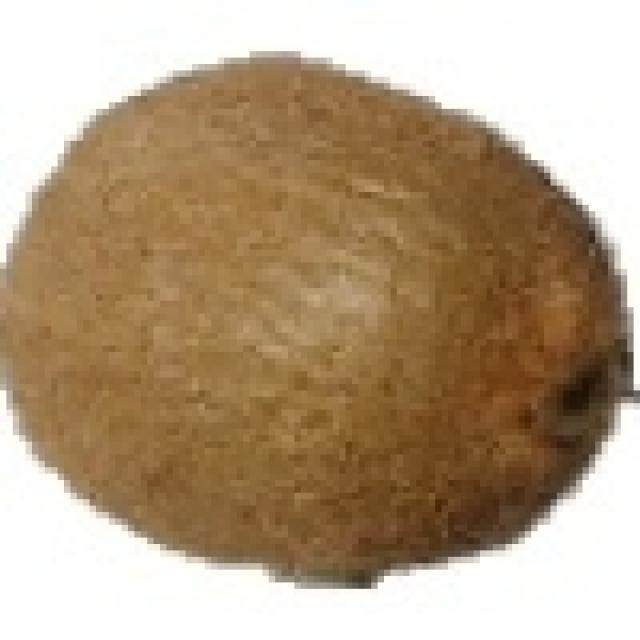kiwi: (0, 51, 614, 570)
